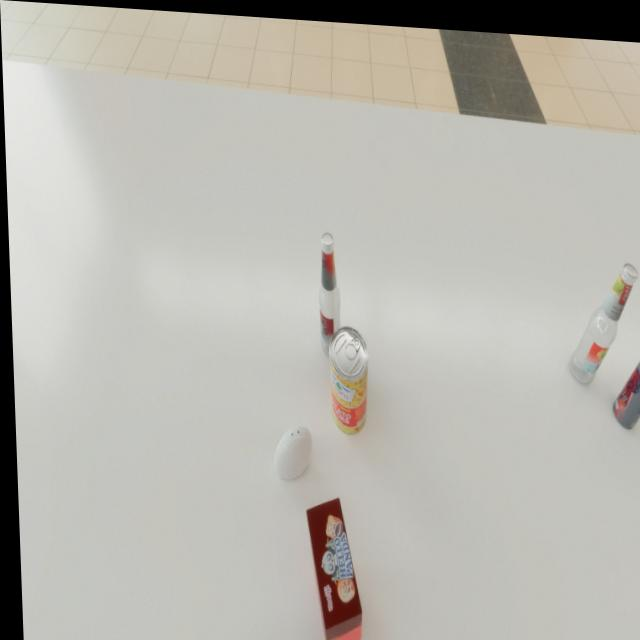Bottle: (564, 251, 640, 380), (314, 228, 341, 354)
HelloPanda: (301, 490, 359, 640)
Potato_sticks: (326, 321, 368, 432)
Rita_zero_sugar: (608, 339, 640, 422)
Salt: (270, 420, 310, 477)
